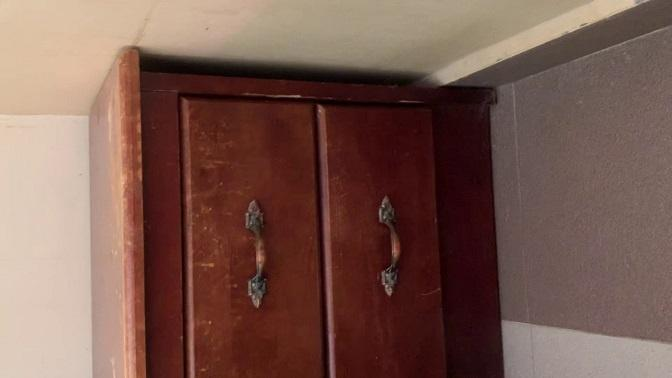cabinet_door: (182, 103, 320, 378), (329, 105, 444, 378)
handle: (369, 195, 410, 299), (237, 196, 273, 310)
